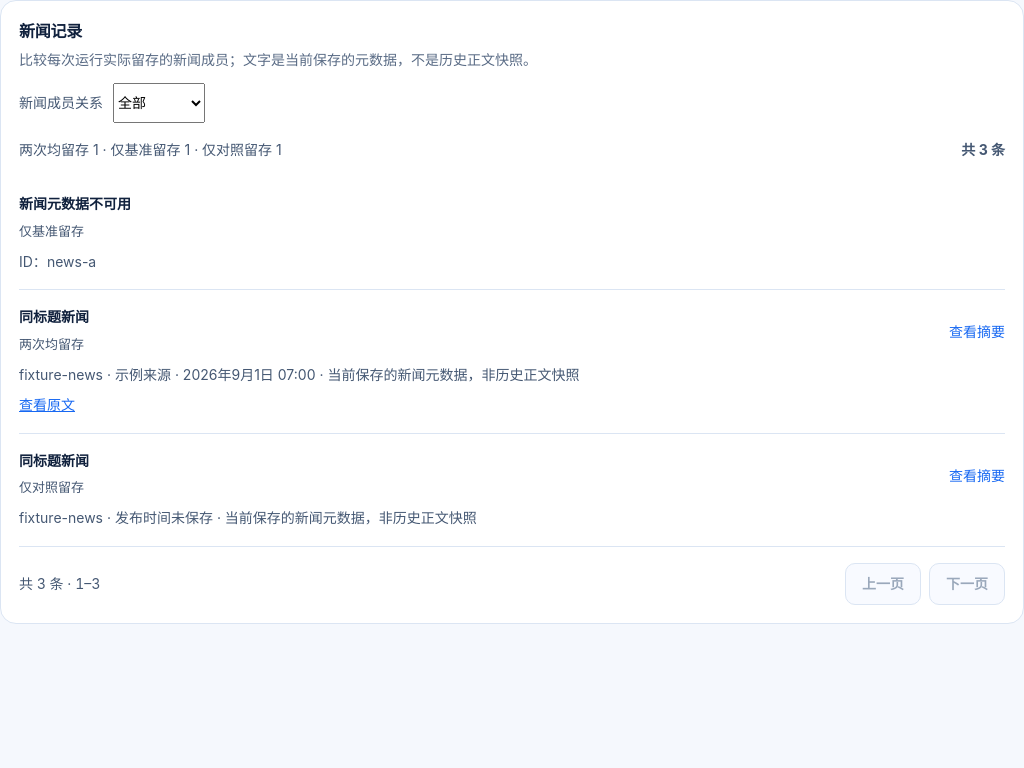
Scenario: keeps missing metadata and same-title IDs, expands text safely and rejects unsafe links
Expected: the text "新闻元数据不可用" is shown, [19,193,131,216]
Expected: the text "同标题新闻" is shown 2 times, [19,306,89,329]; [19,450,89,472]
Click the 2nd button "查看摘要" at (977, 476), box [949,456,1005,496]
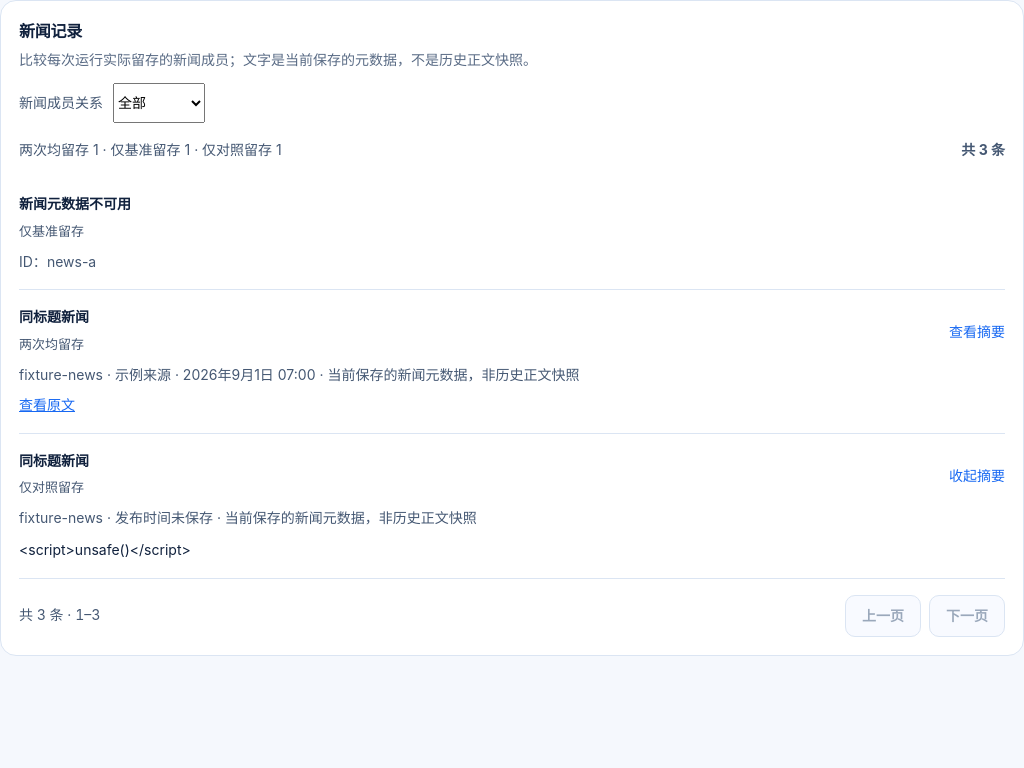
Expected: the text "<script>unsafe()</script>" is shown, [19,541,191,558]
